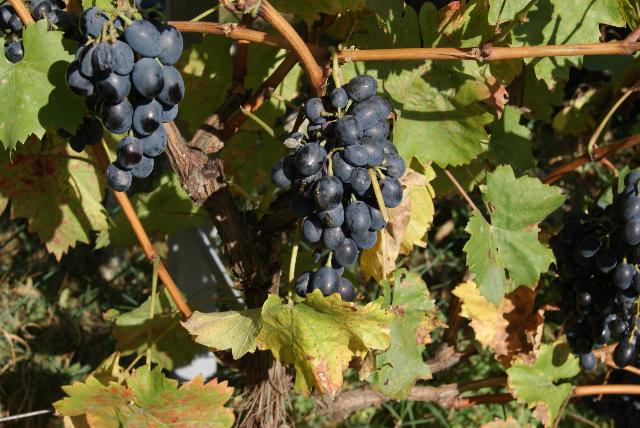grapes: (271, 75, 406, 301), (59, 6, 184, 191), (550, 171, 640, 370)
